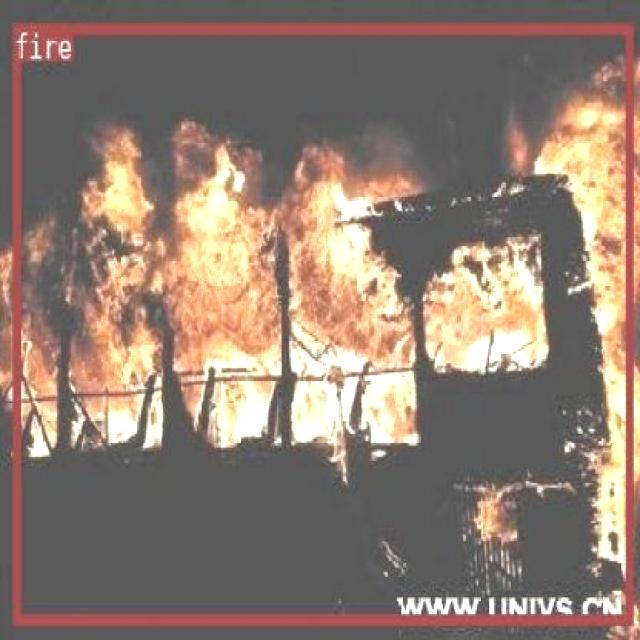fire: (11, 23, 632, 622)
